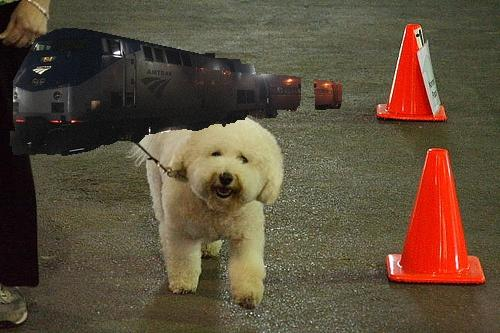tampered: (10, 29, 342, 156)
